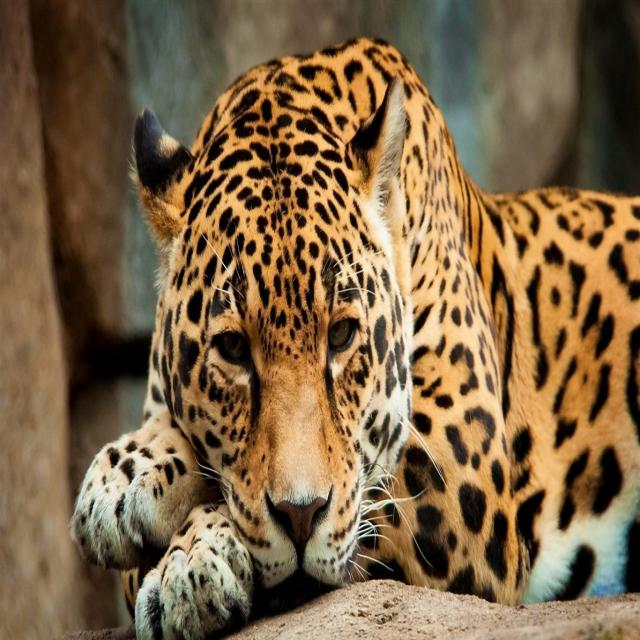Jaguar: (79, 20, 640, 640)
